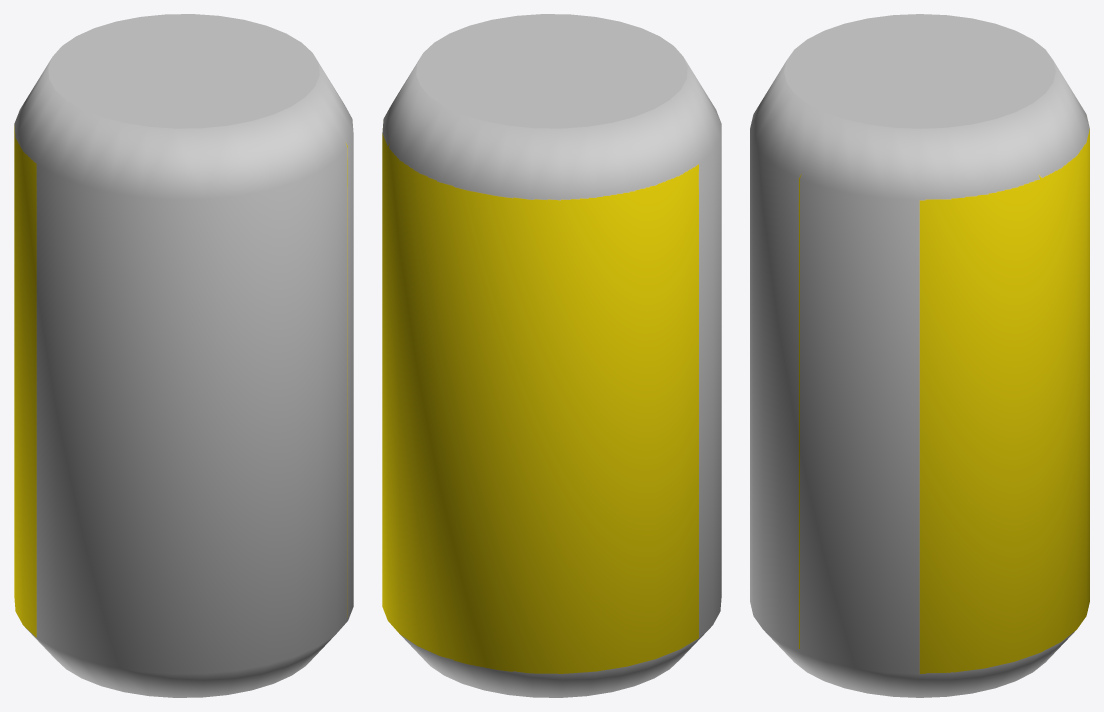
File: yellowCan.fbx
3 views of the same model, side by side, from view 1: azimuth 30°, elevation 25°; view 2: azimuth 150°, elevation 25°; view 3: azimuth 270°, elevation 25° (orthographic).
Parts seen in each view (by area): view 1: Cylinder; view 2: Cylinder; view 3: Cylinder.
Boxes of the visible parts, box(x1,y1,x2,y2) form: Cylinder: box(14, 14, 353, 697); Cylinder: box(382, 14, 721, 697); Cylinder: box(750, 14, 1089, 697).
Bounding box in the file's own units: 0.066 × 0.066 × 0.122.
